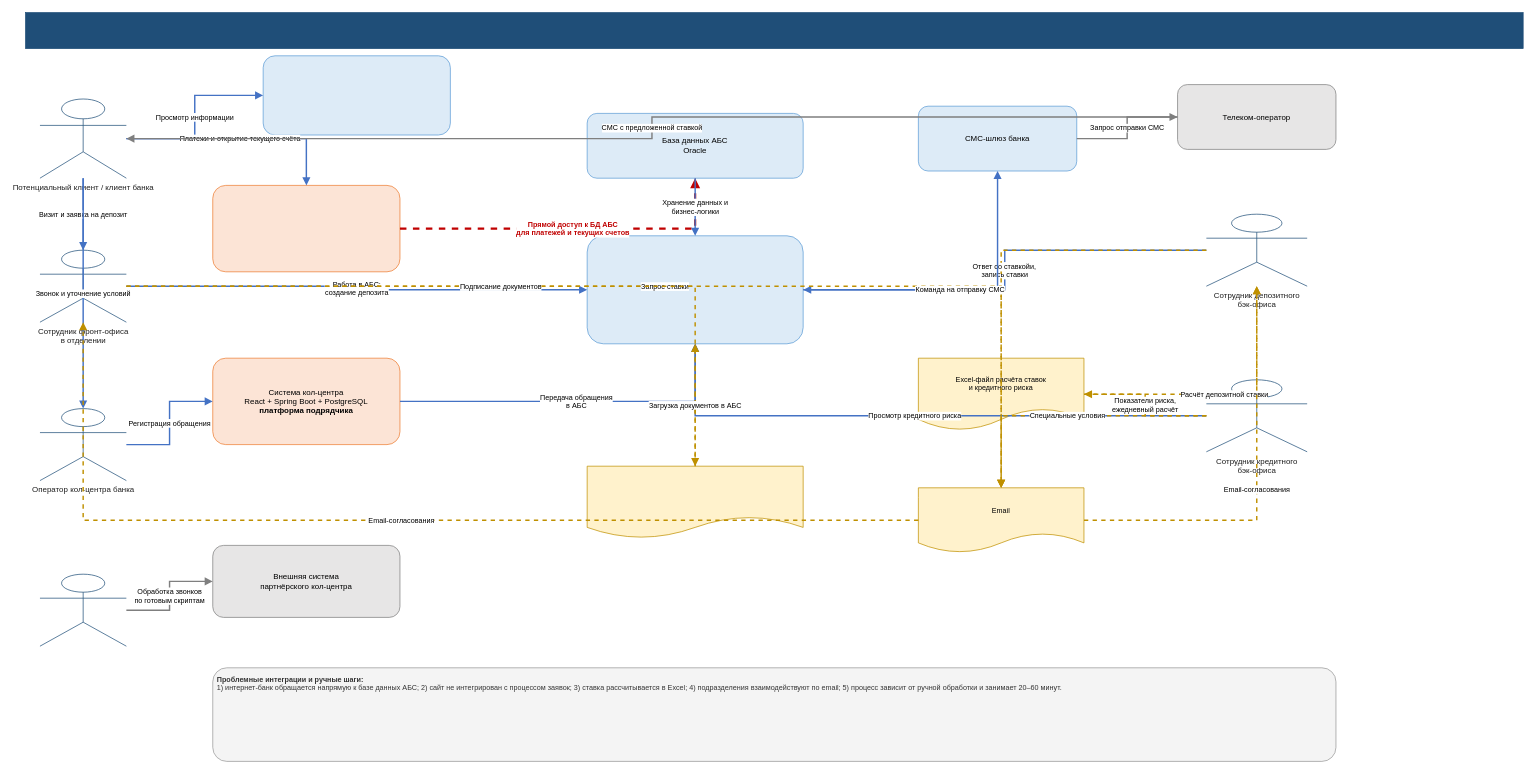
This 1536x774 diagram has some shape labels left out. The centre of each missing label's shape, as x and y in pixels:
АБС Delphi + Oracle + PL/SQL основная система учёта: the point at 694,289
Документы клиента подписание и загрузка: the point at 694,501
Интернет-банк ASP.NET MVC 4.5 + MS SQL платформа подрядчика: the point at 306,228
Оператор партнёрского кол-центра: the point at 82,609
Сайт банка PHP + React.js только маркетинговая информация: the point at 356,95
Схема интеграции приложений и участников процесса открытия депозита — AS-IS: the point at 774,30
